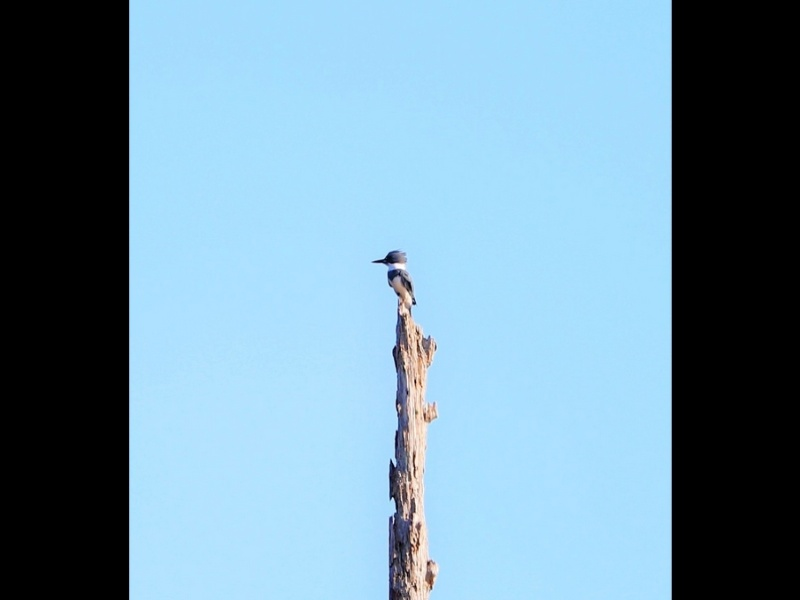kingfisher: (372, 247, 417, 314)
